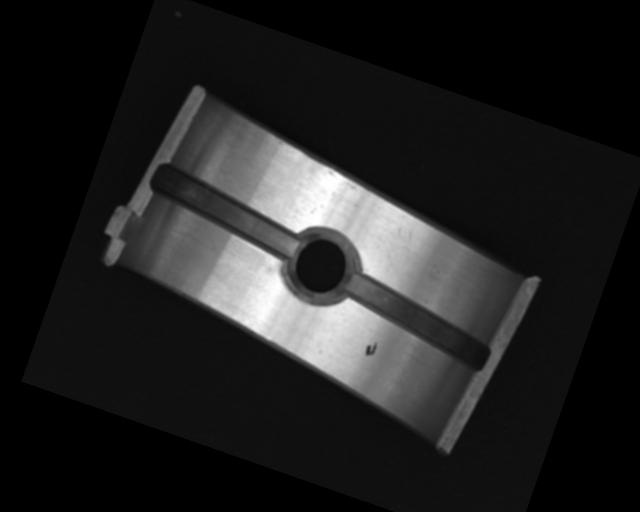blot: (363, 338, 379, 359)
gap: (141, 159, 312, 264), (335, 267, 500, 371)
hole: (281, 222, 365, 309)
